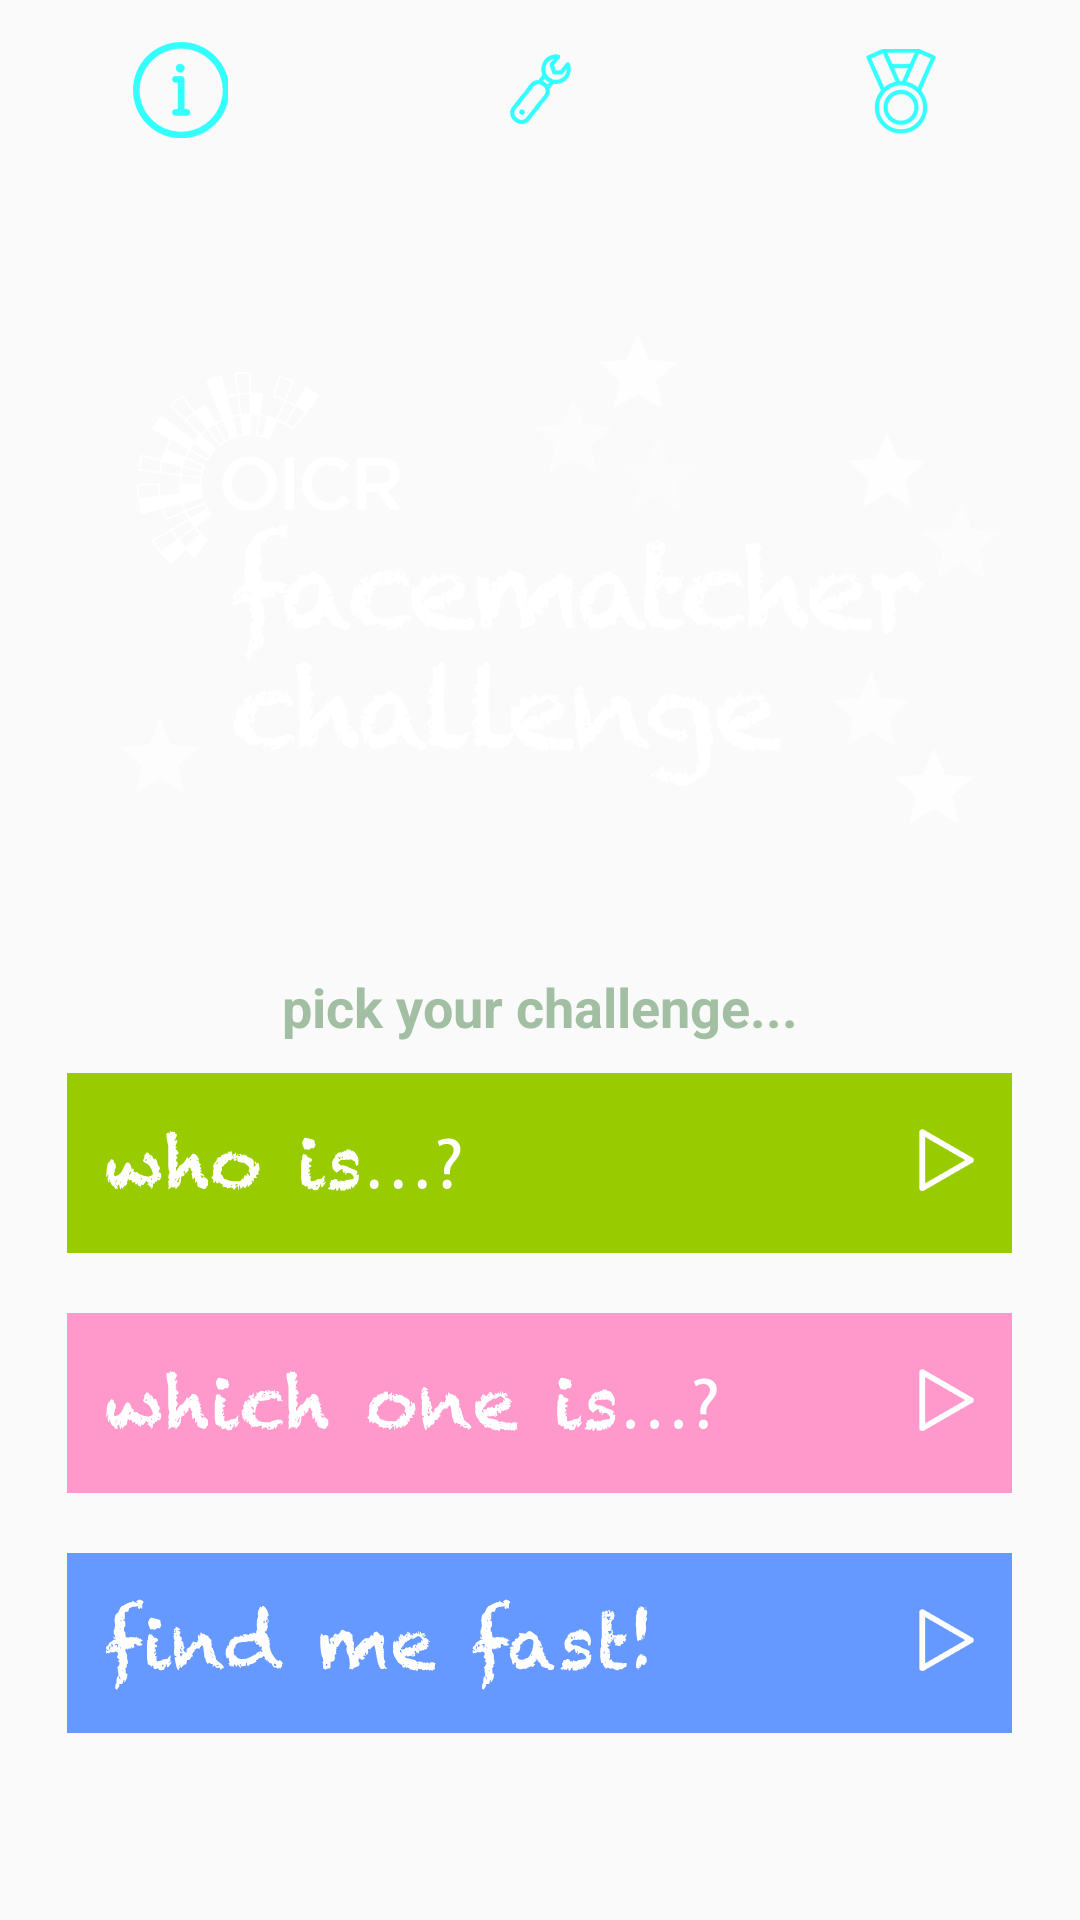

Named icons in this screenshot (1080*1920) and their bounding boxes, (x1, y1, x2, y2):
aboot: (133, 42, 228, 138)
award: (866, 49, 936, 133)
settings: (510, 54, 571, 124)
